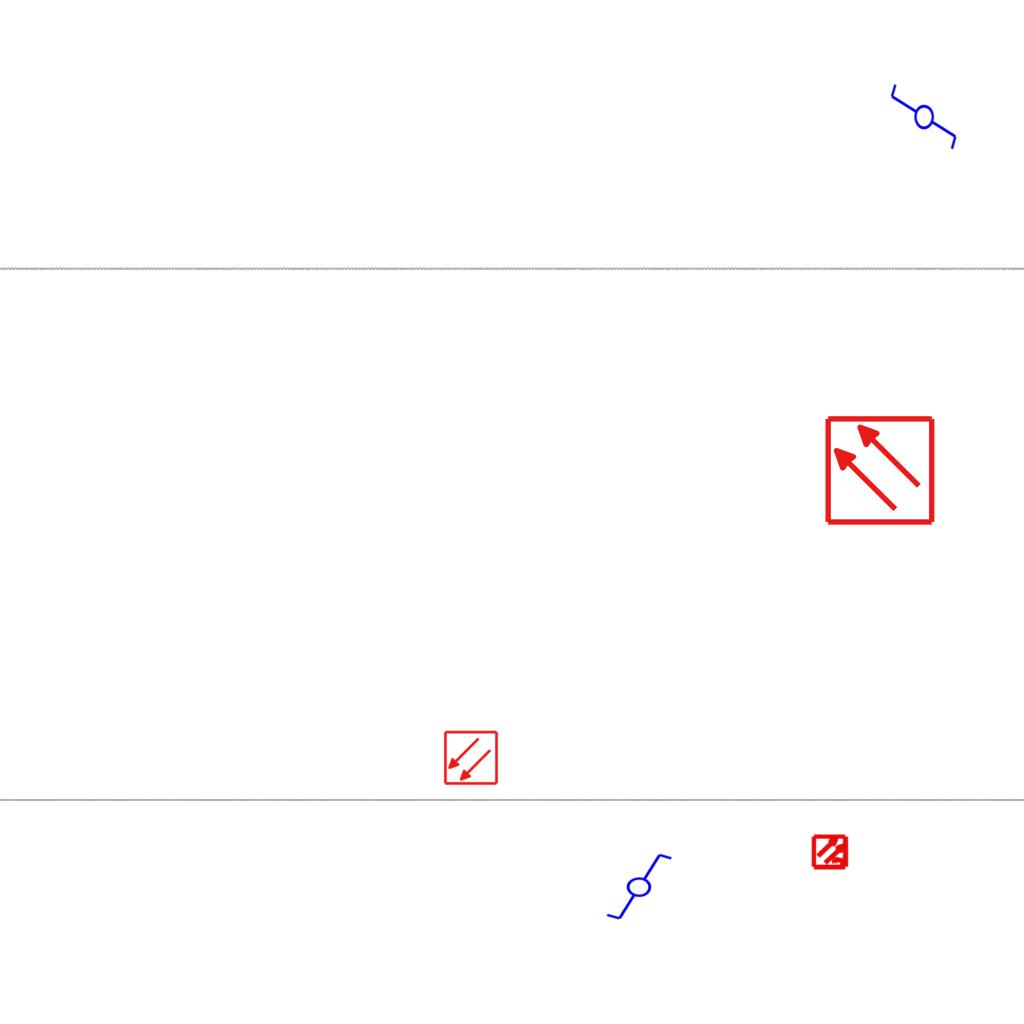OT_Multisensormelder_(Kombination_RMO_WMD): (803, 824, 859, 880)
RMO_Rauchmelder_optischer: (823, 414, 936, 527), (443, 730, 499, 786)
Wechselschalter: (887, 82, 959, 160), (596, 850, 674, 922)
